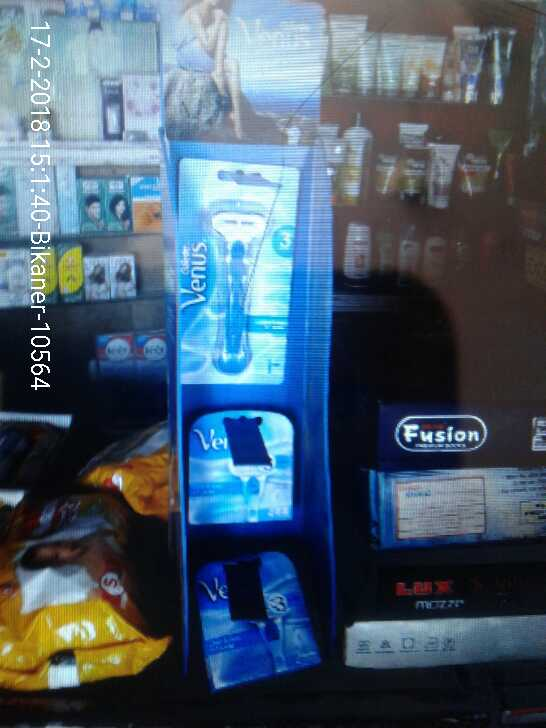venus: (167, 151, 306, 387), (184, 547, 329, 683), (184, 409, 293, 531)
